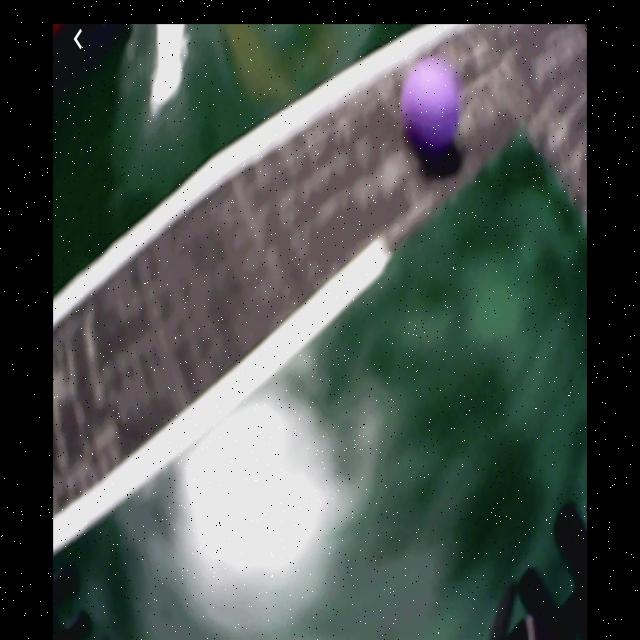ball: (398, 61, 462, 154)
